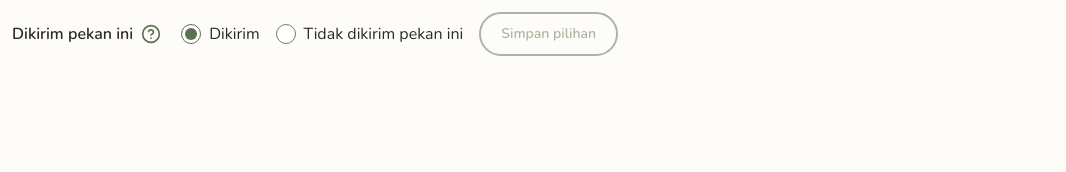
Scenario: FormDikirimPekanIni › ditolak server: status gagal beserta pesannya, tanpa memuat ulang
The image size is (1066, 172).
Click the radio button labelled "Tidak dikirim pekan ini" at (286,34), box [276,24,296,44]
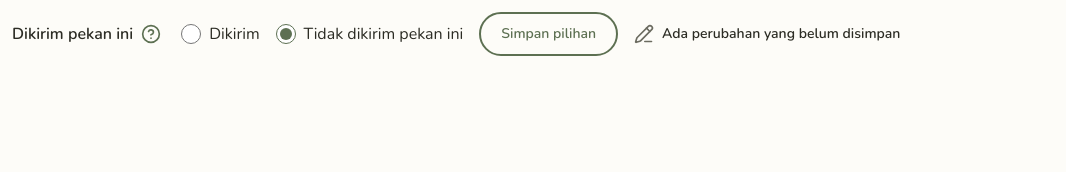
Click the submit button at (549,34), box [479,12,618,56]
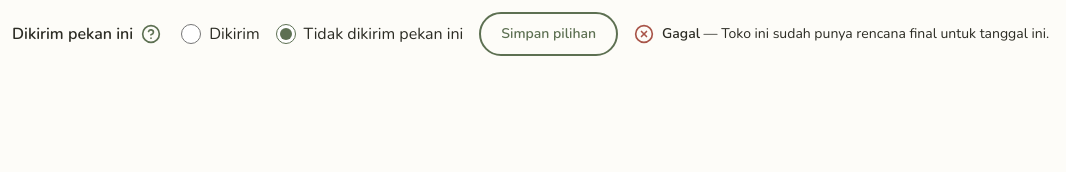
Now the text "Toko ini sudah punya rencana final untuk tanggal ini." is shown, box [721,24,1049,43]
